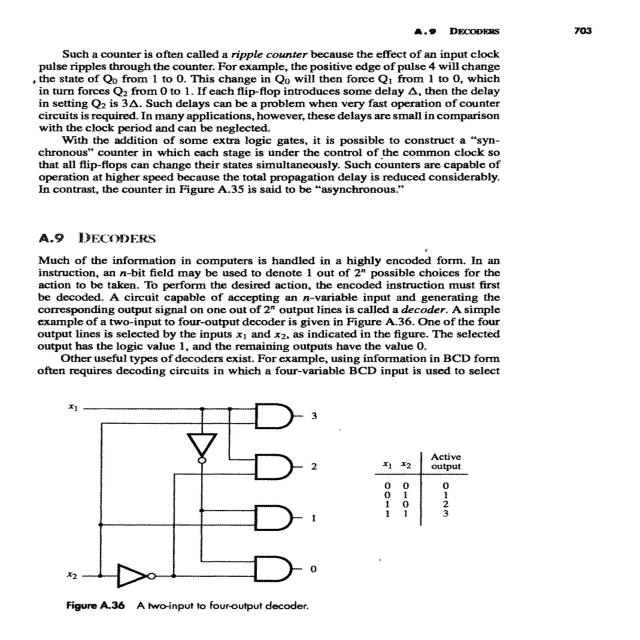diagram: (42, 388, 490, 626)
